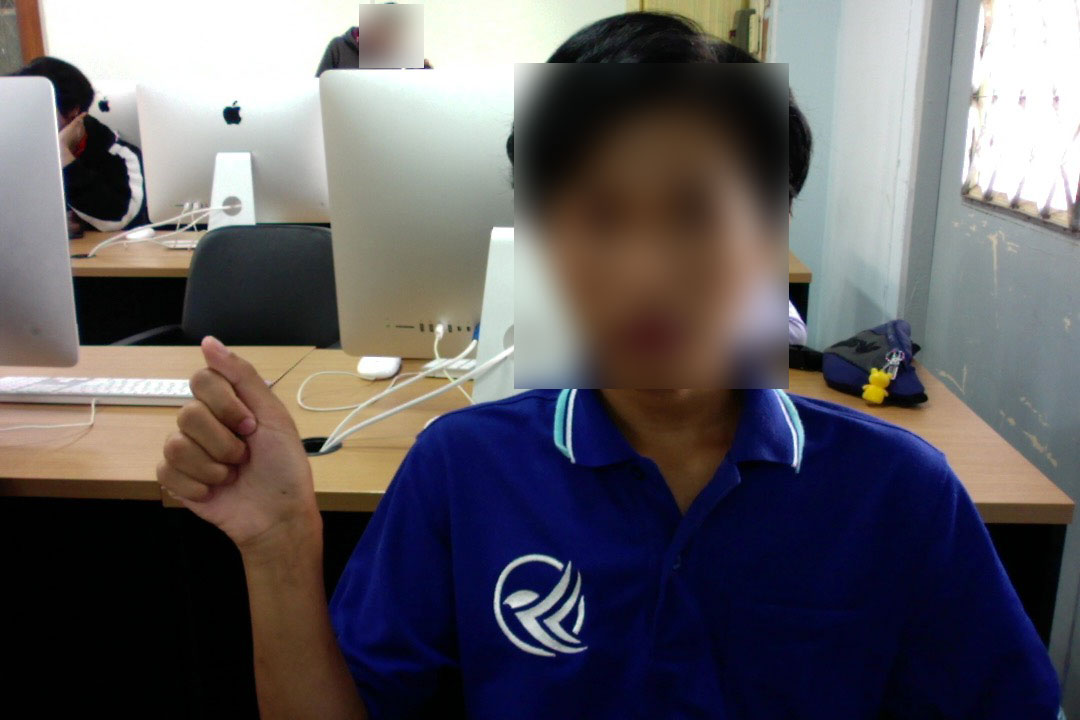or: (145, 321, 326, 562)
